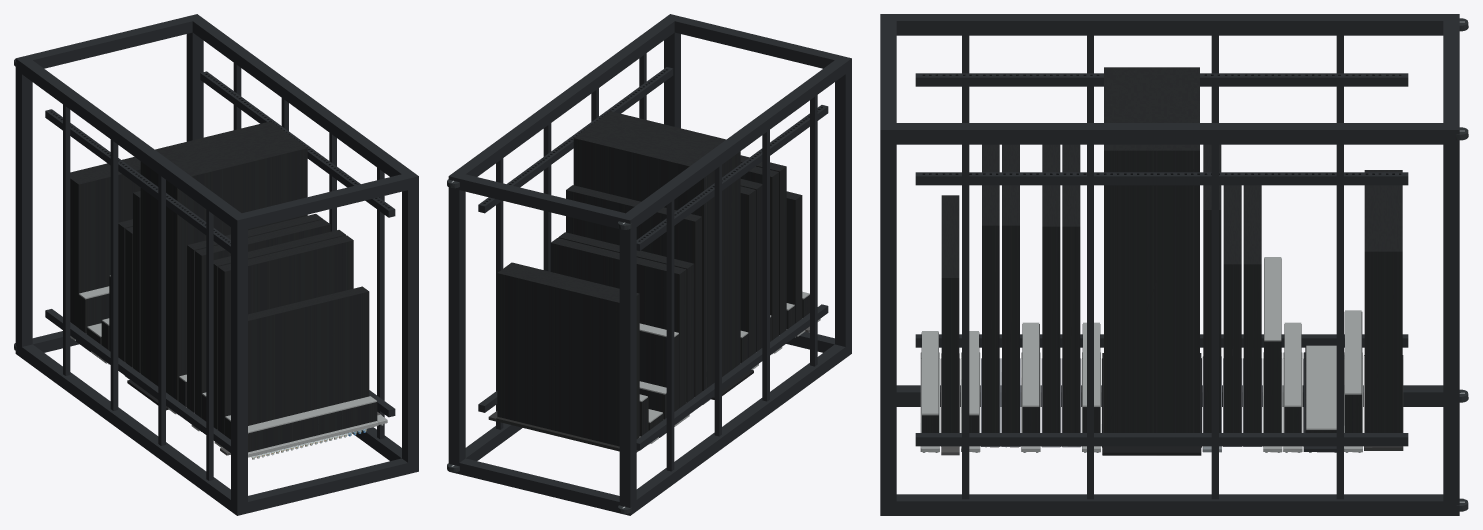
File: juniper-mx-24u.glb
3 renders of one model, left to right at view 1: azimuth 30°, elevation 25°; view 2: azimuth 150°, elevation 25°; view 3: azimuth 270°, elevation 25°, orthographic. The views are drawn at different scales.
Parts seen in each view (by area): view 1: RACK_FRAME__nexus_black, MX240__steel_textured, EX4400_48P__steel_textured, SIDE_BRACES__nexus_black, EX4300_48T_A__steel_textured, MOUNTING_RAILS__nexus_black, SMT1500RM2U__steel_textured, QFX5120_48Y_A__steel_textured, PATCH_PANEL_A__steel_textured, QFX5120_48Y_B__steel_textured, PATCH_PANEL_A__cisco_grey_dark, EX4300_48T_B__steel_textured (+5 smaller); view 2: RACK_FRAME__nexus_black, SMT1500RM2U__steel_textured, MX240__steel_textured, SIDE_BRACES__nexus_black, MOUNTING_RAILS__nexus_black, SRX1500_B__steel_textured, MX204__steel_textured, QFX5120_48Y_B__steel_textured, SRX1500_A__steel_textured, EX4400_48P__steel_textured, CONSOLE_SERVER__steel_textured, EX4300_48T_B__steel_textured (+4 smaller); view 3: RACK_FRAME__nexus_black, MX240__steel_textured, MOUNTING_RAILS__nexus_black, SIDE_BRACES__nexus_black, SMT1500RM2U__steel_textured, QFX5120_48Y_A__steel_textured, QFX5120_48Y_B__steel_textured, EX4300_48T_A__steel_textured, EX4300_48T_B__steel_textured, SRX1500_A__steel_textured, SRX1500_B__steel_textured, EX4400_48P__steel_textured (+13 smaller).
Boxes of the visible parts, bbox=[...] form: RACK_FRAME__nexus_black: bbox=[15, 14, 418, 515]; MX240__steel_textured: bbox=[140, 121, 307, 401]; EX4400_48P__steel_textured: bbox=[248, 286, 369, 425]; SIDE_BRACES__nexus_black: bbox=[63, 63, 384, 480]; EX4300_48T_A__steel_textured: bbox=[217, 235, 353, 434]; MOUNTING_RAILS__nexus_black: bbox=[45, 71, 395, 452]; SMT1500RM2U__steel_textured: bbox=[70, 157, 140, 327]; QFX5120_48Y_A__steel_textured: bbox=[195, 219, 330, 418]; PATCH_PANEL_A__steel_textured: bbox=[248, 402, 377, 452]; QFX5120_48Y_B__steel_textured: bbox=[187, 214, 322, 412]; PATCH_PANEL_A__cisco_grey_dark: bbox=[230, 396, 387, 457]; EX4300_48T_B__steel_textured: bbox=[213, 230, 345, 429]; RACK_FRAME__nexus_black: bbox=[448, 14, 851, 515]; SMT1500RM2U__steel_textured: bbox=[497, 262, 639, 446]; MX240__steel_textured: bbox=[573, 111, 740, 390]; SIDE_BRACES__nexus_black: bbox=[496, 53, 817, 471]; MOUNTING_RAILS__nexus_black: bbox=[478, 67, 828, 450]; SRX1500_B__steel_textured: bbox=[550, 238, 686, 407]; MX204__steel_textured: bbox=[566, 185, 701, 396]; QFX5120_48Y_B__steel_textured: bbox=[740, 186, 755, 357]; SRX1500_A__steel_textured: bbox=[558, 232, 694, 402]; EX4400_48P__steel_textured: bbox=[786, 191, 802, 323]; CONSOLE_SERVER__steel_textured: bbox=[639, 331, 679, 411]; EX4300_48T_B__steel_textured: bbox=[740, 163, 778, 340]; RACK_FRAME__nexus_black: bbox=[880, 14, 1459, 515]; MX240__steel_textured: bbox=[1104, 67, 1199, 432]; MOUNTING_RAILS__nexus_black: bbox=[915, 73, 1408, 446]; SIDE_BRACES__nexus_black: bbox=[962, 35, 1343, 499]; SMT1500RM2U__steel_textured: bbox=[1364, 170, 1402, 432]; QFX5120_48Y_A__steel_textured: bbox=[1042, 144, 1060, 432]; QFX5120_48Y_B__steel_textured: bbox=[1062, 144, 1080, 432]; EX4300_48T_A__steel_textured: bbox=[982, 144, 999, 432]; EX4300_48T_B__steel_textured: bbox=[1002, 144, 1019, 432]; SRX1500_A__steel_textured: bbox=[1223, 185, 1241, 432]; SRX1500_B__steel_textured: bbox=[1243, 185, 1261, 432]; EX4400_48P__steel_textured: bbox=[941, 195, 959, 432].
Size of the model in its own units: 0.609 by 0.9401 by 1.3.
Materials: 155 (9 with a texture image).
